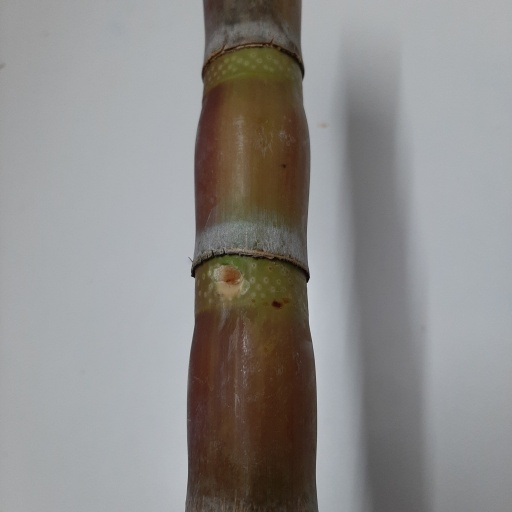Damage_Bud: (209, 260, 250, 297)
